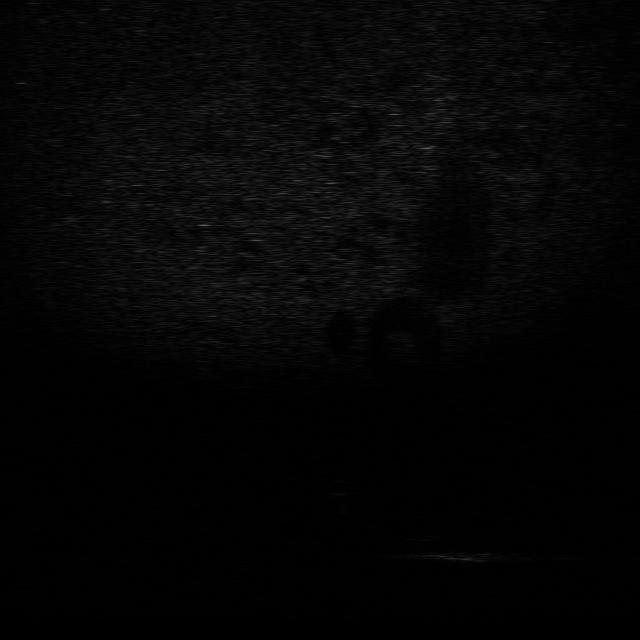ball: (317, 477, 358, 498)
metal bucket: (413, 543, 515, 567)
tyre: (368, 511, 448, 544)
